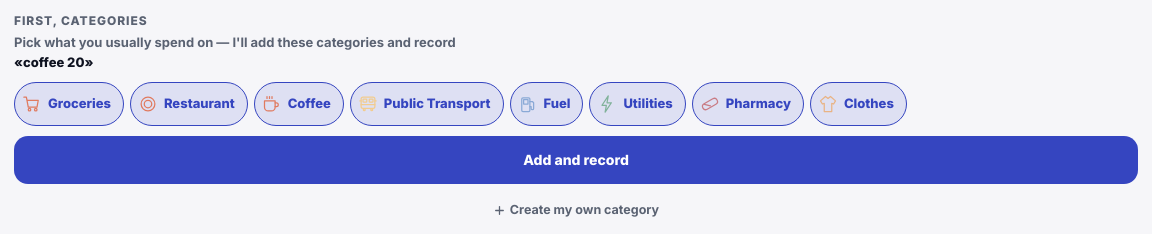
Test: StarterCategoriesCard › shows a spinner and ignores a second tap while saving
Click the button "Add and record" at (576, 160), box [14,136,1138,184]
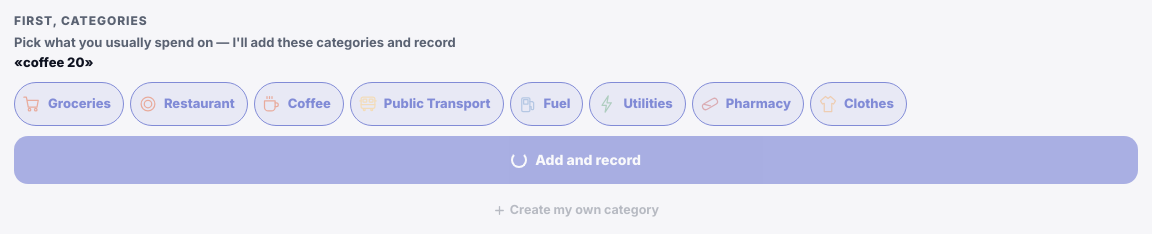
Expected: the element with test id "starter-spinner" is shown, [511,152,527,168]
Expected: the button "Add and record" is disabled
Click the button "Add and record" at (576, 160), box [14,136,1138,184]
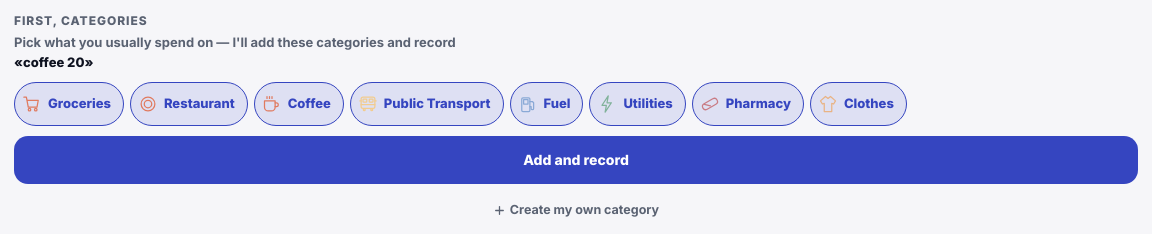
Expected: the element with test id "starter-spinner" is gone
